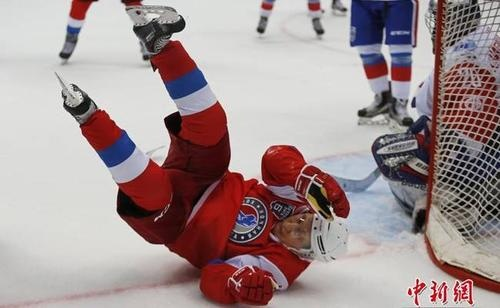falling: (44, 4, 360, 301)
